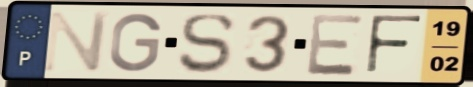3: (240, 13, 293, 75)
E: (305, 12, 367, 77)
F: (363, 13, 427, 78)
G: (106, 11, 164, 74)
N: (40, 10, 113, 74)
S: (176, 11, 238, 76)
